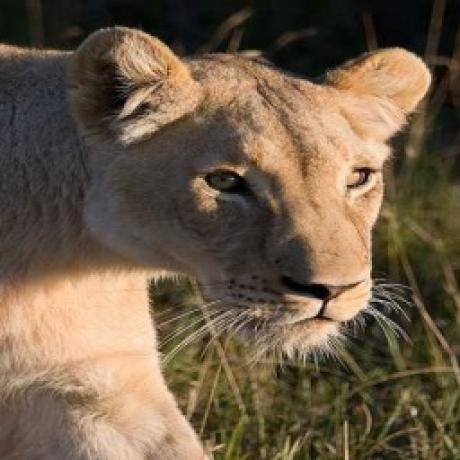Lion: (0, 20, 435, 460)
